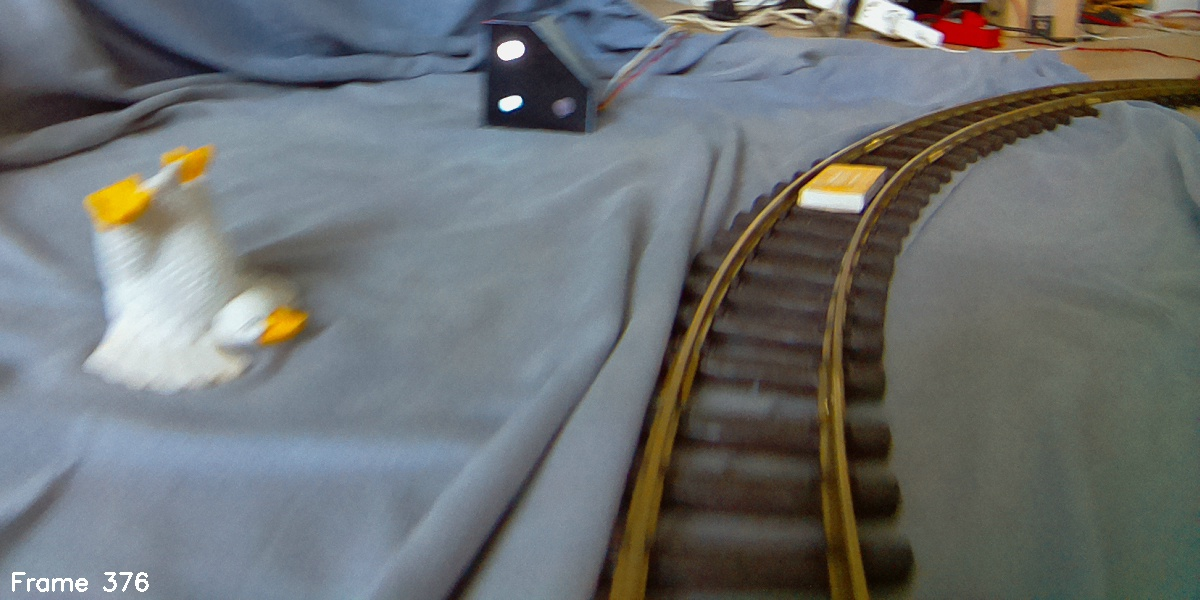Ente: (70, 136, 312, 403)
Fahrt: (484, 13, 604, 134)
